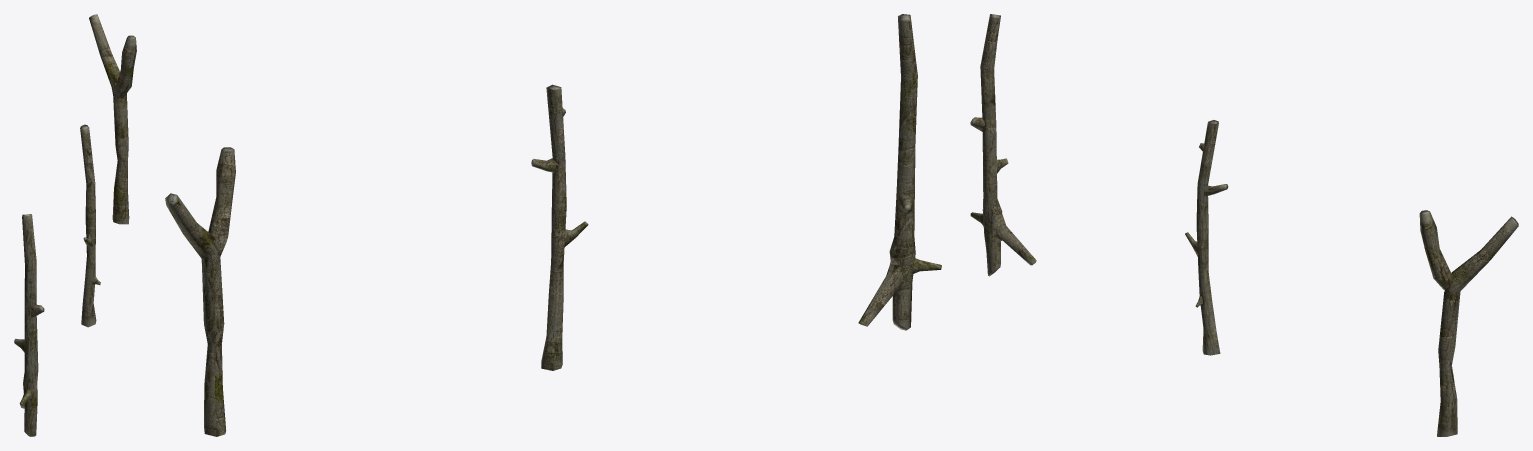
The model's file is stick.glb.
The picture shows the model from 3 angles, left to right: view 1: azimuth 30°, elevation 25°; view 2: azimuth 150°, elevation 25°; view 3: azimuth 270°, elevation 25°; orthographic projection. The views are drawn at different scales.
Parts seen in each view (by area): view 1: stick2, stick1, stick3; view 2: stick1, stick2, stick3; view 3: stick2, stick1, stick3.
Part boxes in pixels (bbox=[...]): stick2: bbox=[89, 14, 136, 224]; stick1: bbox=[14, 214, 44, 436]; stick3: bbox=[80, 124, 100, 327]; stick1: bbox=[858, 14, 941, 330]; stick2: bbox=[165, 147, 235, 436]; stick3: bbox=[531, 84, 588, 370]; stick2: bbox=[1419, 210, 1518, 436]; stick1: bbox=[970, 14, 1036, 276]; stick3: bbox=[1185, 120, 1228, 355].
Bounding box in the file's own units: 2.95 × 2 × 3.84.
1 material, 1 textured.
